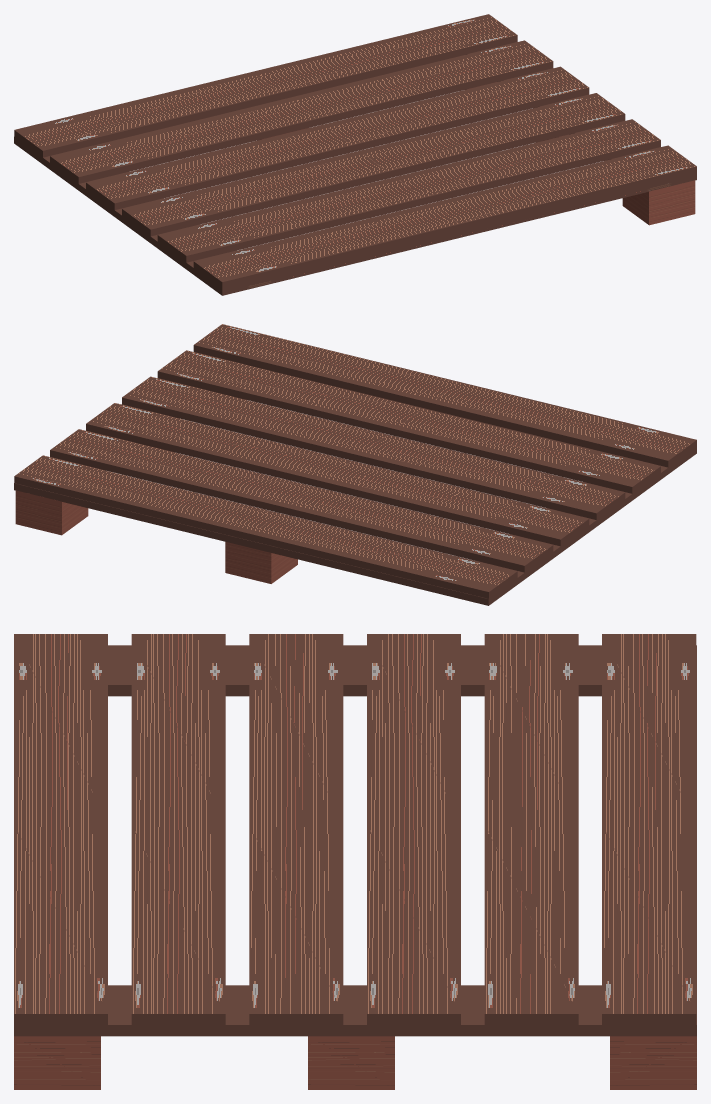
Rendered from pallete1.glb.
3 renders of one model, top to bottom at view 1: azimuth 30°, elevation 25°; view 2: azimuth 150°, elevation 25°; view 3: azimuth 270°, elevation 25°, orthographic. The views are drawn at different scales.
Visible parts, largest first — view 1: Cube.001, Cube.002, Cube.003; view 2: Cube.001, Cube.002, Cube.003, Cube.005; view 3: Cube.001, Cube.002, Cube.003, Cube.004.
Part boxes in pixels (x1=…): Cube.001: x1=14, y1=14, x2=696, y2=288; Cube.002: x1=14, y1=42, x2=696, y2=295; Cube.003: x1=465, y1=82, x2=695, y2=225; Cube.001: x1=14, y1=324, x2=696, y2=598; Cube.002: x1=14, y1=352, x2=696, y2=605; Cube.003: x1=15, y1=392, x2=246, y2=535; Cube.005: x1=225, y1=542, x2=297, y2=583; Cube.001: x1=14, y1=634, x2=696, y2=1024; Cube.002: x1=14, y1=645, x2=696, y2=1036; Cube.003: x1=14, y1=1036, x2=696, y2=1089; Cube.004: x1=308, y1=1036, x2=394, y2=1089.
Size of the model in its own units: 13.75 by 1.31 by 10.45.
Materials: 3 (3 with a texture image).
